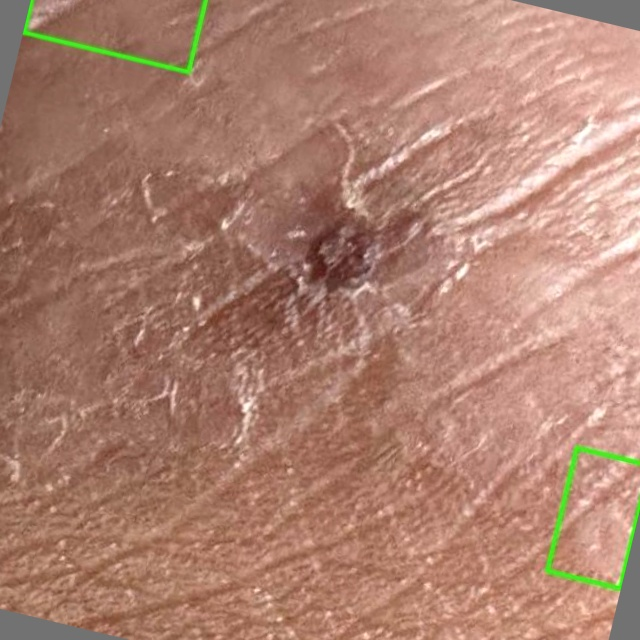Scabies: (547, 448, 639, 588)
